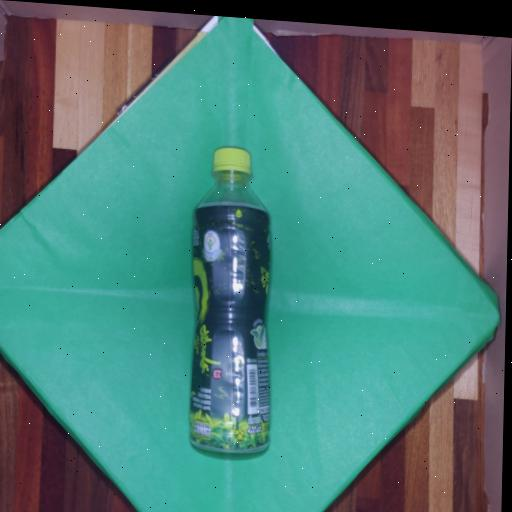bottle: (174, 139, 289, 469)
